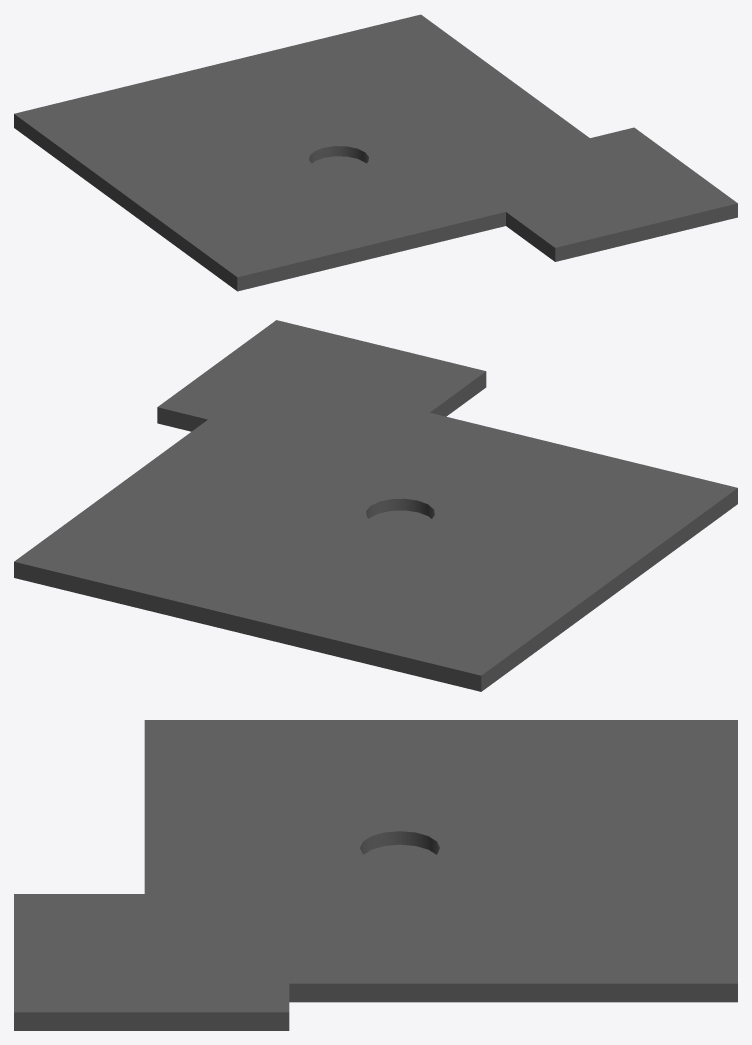
Rendered from floor_3.fbx.
3 views of the same model, one above another, from view 1: azimuth 30°, elevation 25°; view 2: azimuth 150°, elevation 25°; view 3: azimuth 270°, elevation 25° (orthographic). The views are drawn at different scales.
Parts seen in each view (by area): view 1: m3; view 2: m3; view 3: m3.
Part boxes in pixels (<box>): m3: <box>14,14,737,291</box>; m3: <box>14,320,737,691</box>; m3: <box>14,720,737,1030</box>.
Size of the model in its own units: 3340 by 100 by 3498.
Materials: 1 (1 with a texture image).
